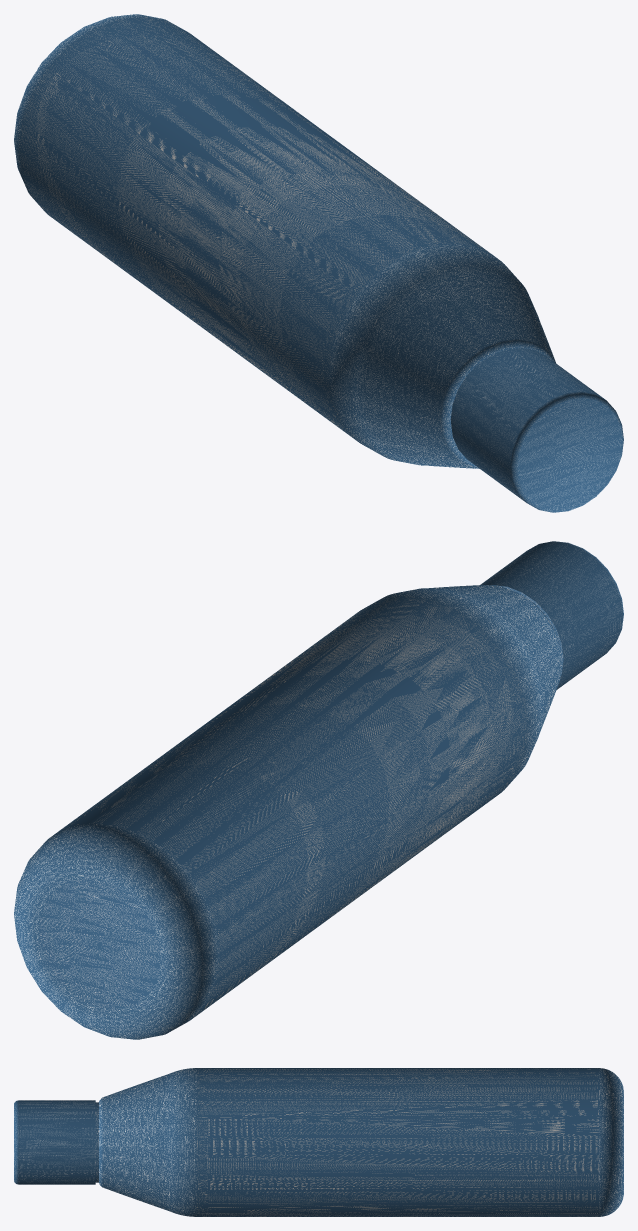
The model's file is model_align.obj.
3 renders of one model, top to bottom at view 1: azimuth 30°, elevation 25°; view 2: azimuth 150°, elevation 25°; view 3: azimuth 270°, elevation 25°, orthographic. The views are drawn at different scales.
Visible parts, largest first — view 1: mesh1_mesh1-geometry; view 2: mesh1_mesh1-geometry; view 3: mesh1_mesh1-geometry.
Boxes of the visible parts, x1,y1,x2,y2 form: mesh1_mesh1-geometry: (14,14,623,512); mesh1_mesh1-geometry: (14,541,623,1039); mesh1_mesh1-geometry: (14,1068,623,1216).
Bounding box in the file's own units: 0.0662 × 0.0662 × 0.2702.
